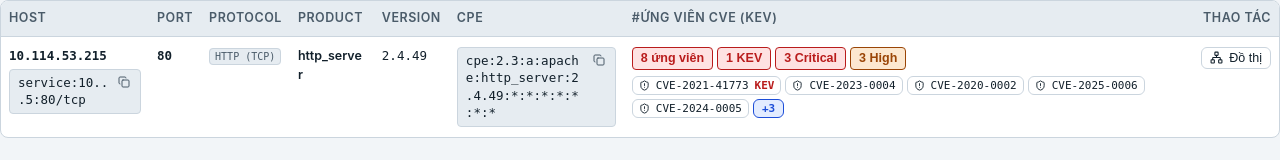
Test: Ultron UI Reusable Components › ranks ServiceTable CVEs (KEV -> EPSS -> CVSS), collapses after top 5 with +N expander, and shows KEV/Critical/High counts
Later steps or results of the test are not shown.
expect the text "8 ứng viên" is shown: met, box [641,50,704,67]
expect the text "1 KEV" is shown: met, box [726,50,762,67]
What coordinates should you click on to do the following:
click the button named "Hiện thêm 3 ứng viên CVE"
I would click on:
 (769, 109)
Its box is [753,99,784,118].
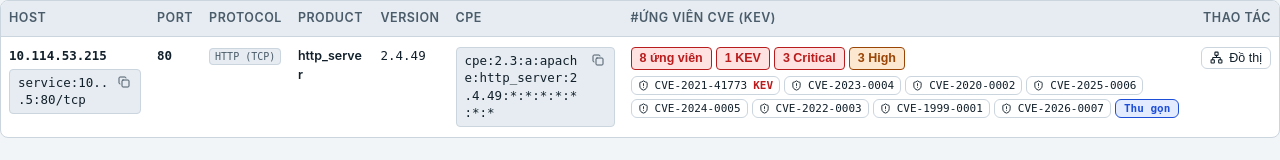
expect the text "CVE-1999-0001" is shown: met, box [897,102,983,115]
expect the text "CVE-2022-0003" is shown: met, box [776,102,862,115]
expect the text "CVE-2026-0007" is shown: met, box [1018,102,1104,115]
What coordinates should you click on to do the following:
click the button with aria-label "Thu gọn danh sách ứng viên CVE"
I would click on:
 (1147, 109)
Its box is [1115,99,1179,118].
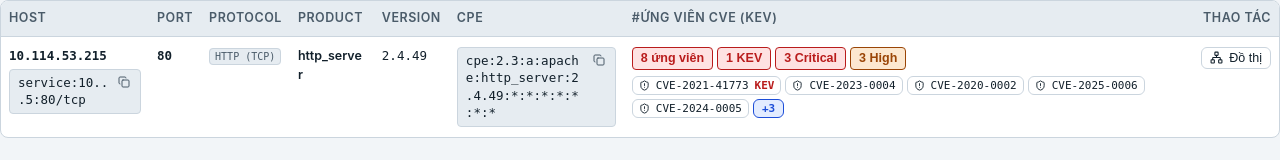
expect the button "CVE-1999-0001" is gone: met
